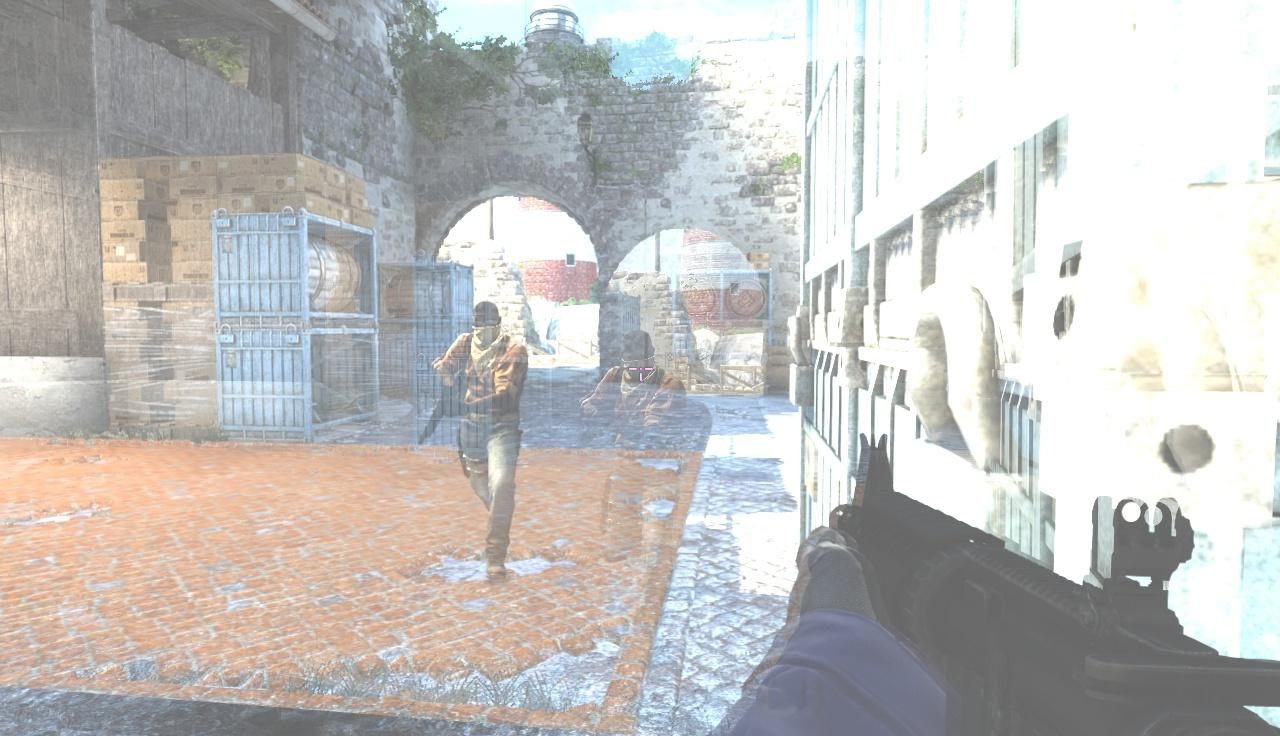ct: (459, 309, 534, 578)
rifle: (820, 426, 1279, 732)
tt: (459, 309, 534, 578)
tthead: (474, 304, 505, 346)
